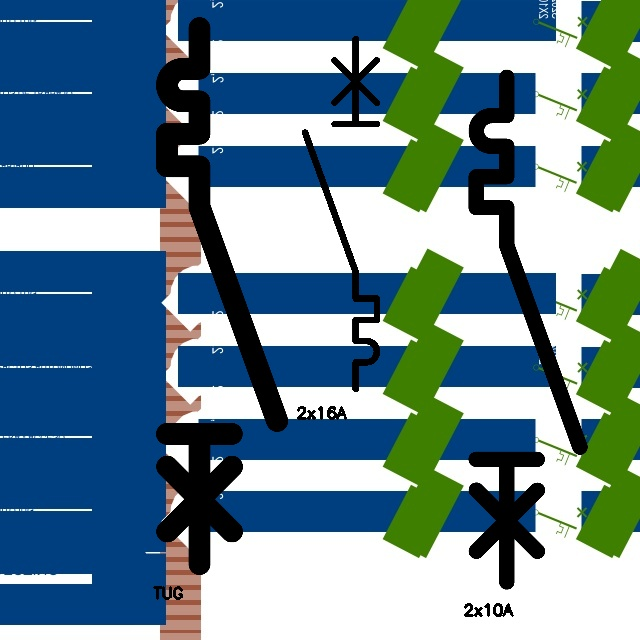interruptor_termomagnetico: (153, 14, 291, 578), (463, 64, 593, 594), (296, 30, 386, 398)
